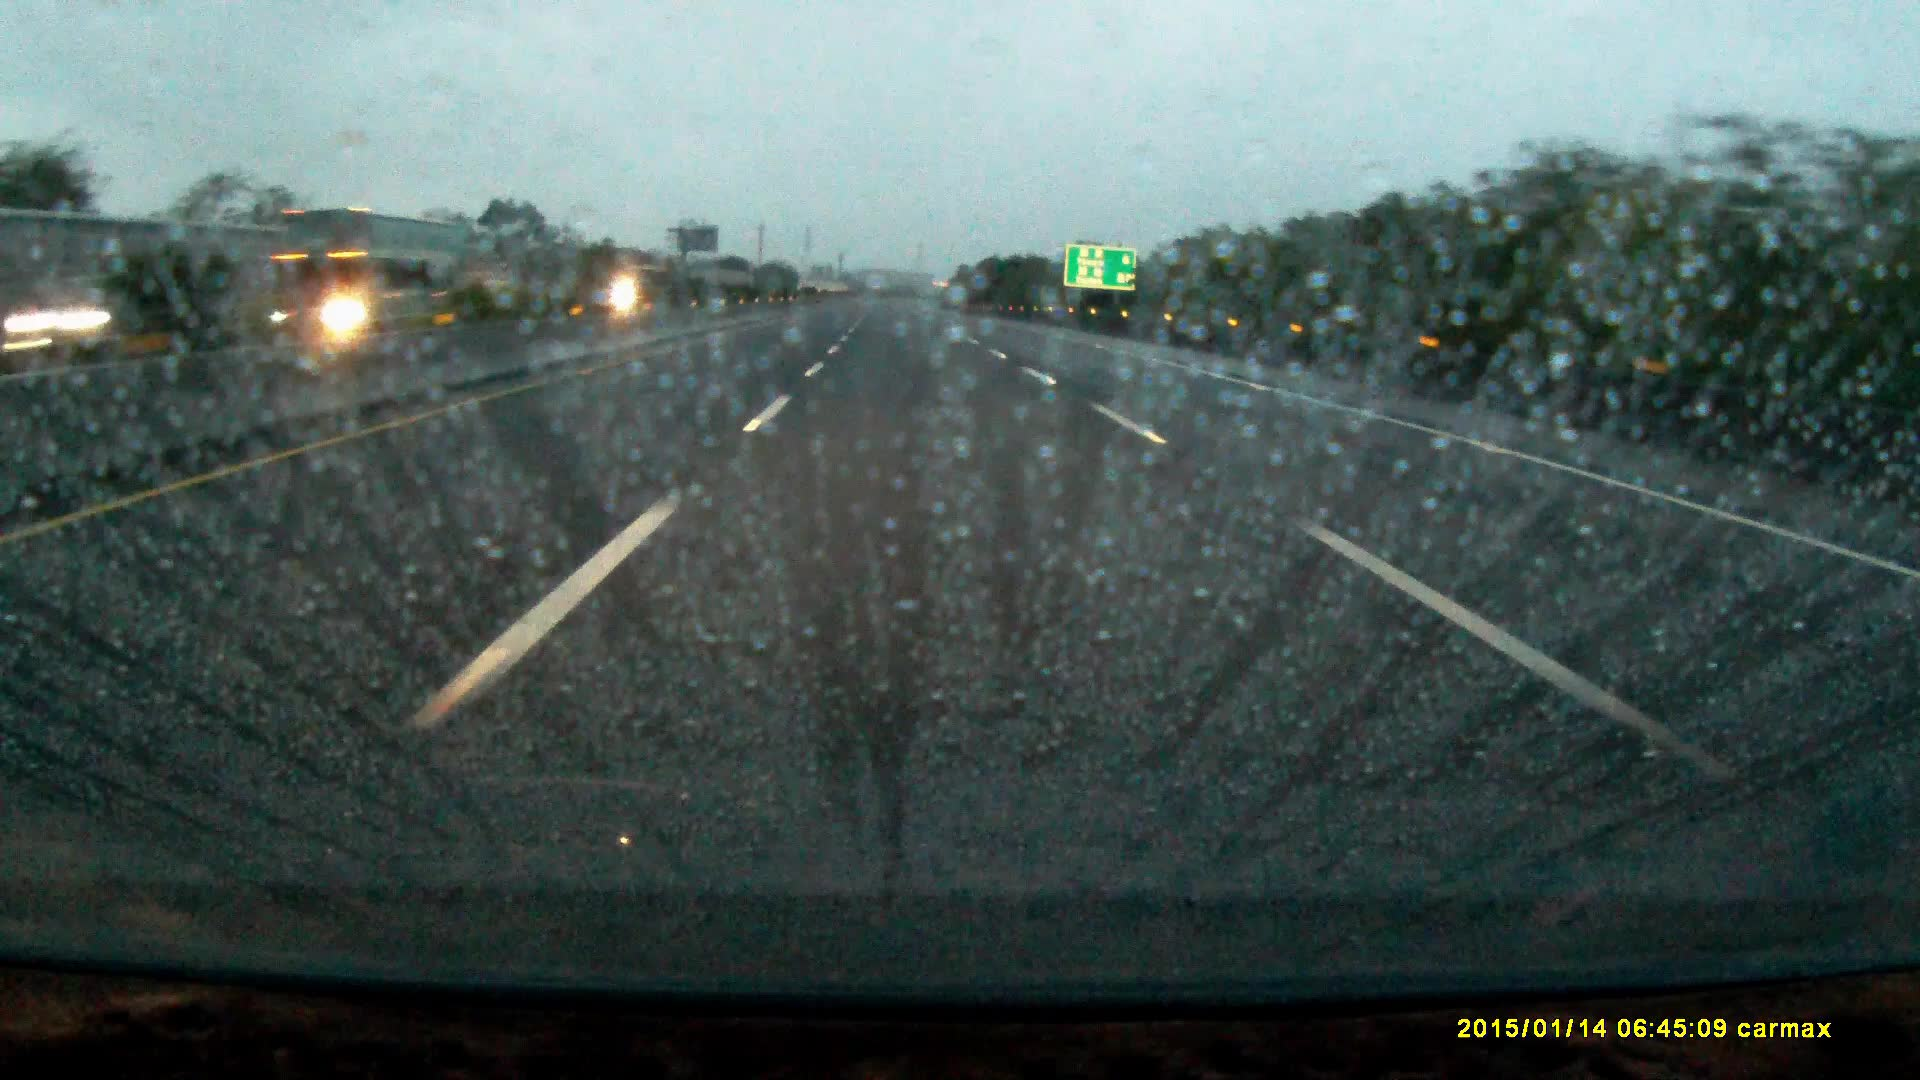vehicle: (270, 207, 472, 330), (37, 272, 193, 355), (622, 268, 682, 306)
